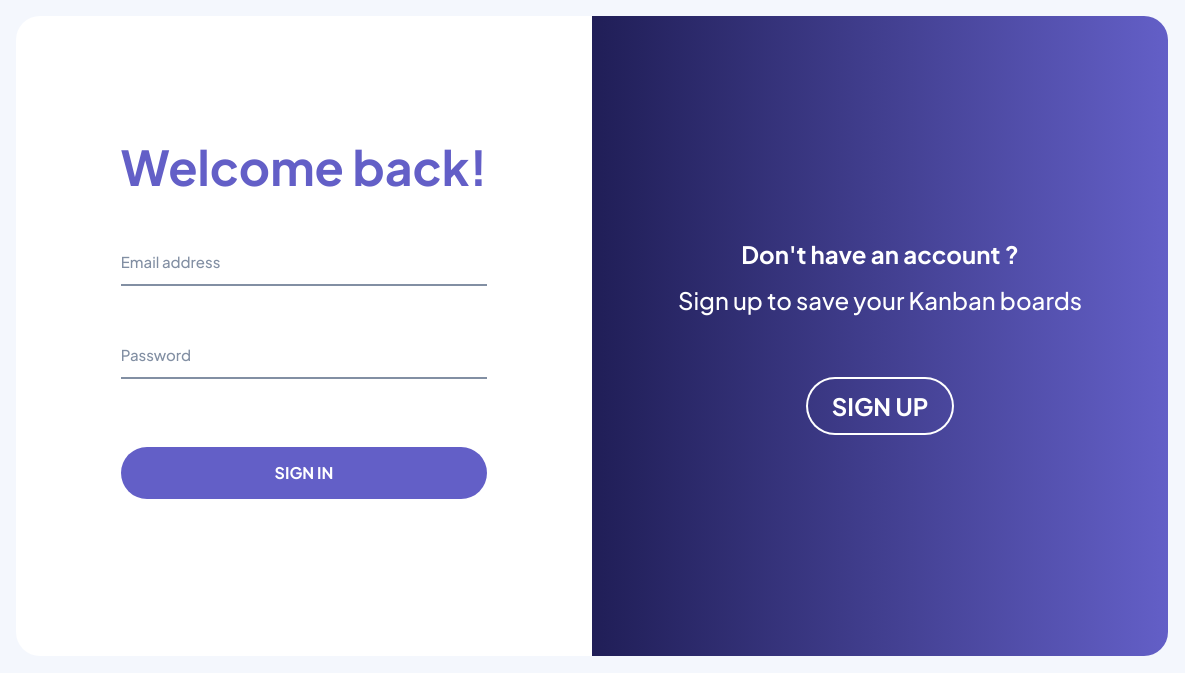
Test: Auth Page › loads the authentication page correctly
This screenshot has width=1185, height=673.
Expected: the field with id "signin-email" is shown, [121, 245, 487, 286]
Expected: the password field with id "signin-password" is shown, [121, 338, 487, 379]
// click the sign up button to switch the form
Click the button with id "signup-overlay-btn" at (881, 406), box [808, 379, 953, 433]
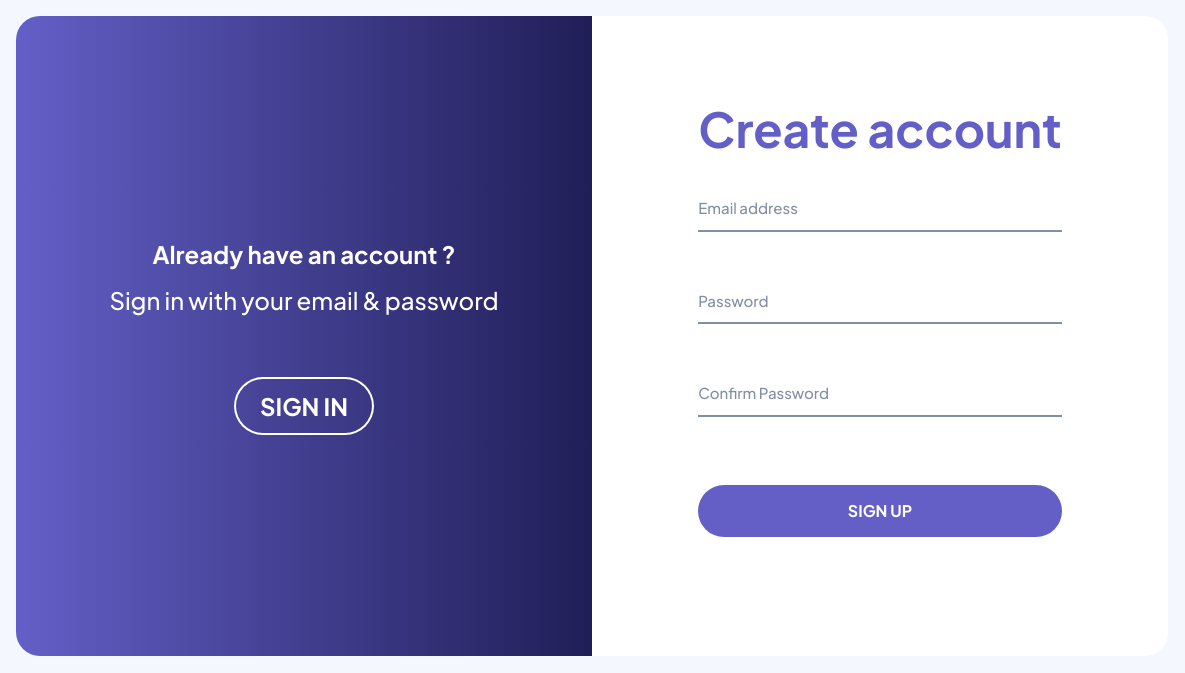
Expected: the field with id "signup-email" is shown, [698, 191, 1062, 232]
Expected: the password field with id "signup-password" is shown, [698, 284, 1062, 325]
Expected: the button "Sign Up" is shown, [698, 485, 1062, 537]
// click the sign in button to switch the form back to sign in
Click the button with id "signin-overlay-btn" at (304, 406), box [236, 379, 372, 433]
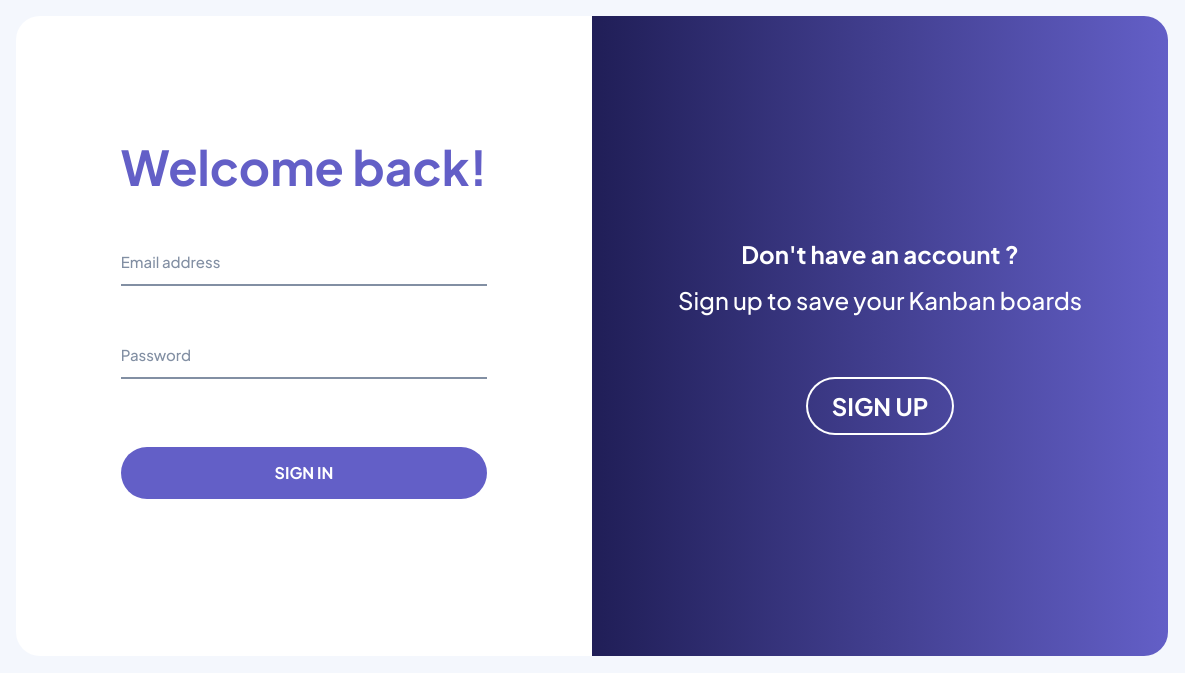
Expected: the field with id "signin-email" is shown, [121, 245, 487, 286]
Expected: the password field with id "signin-password" is shown, [121, 338, 487, 379]
Expected: the button "Sign In" is shown, [121, 447, 487, 499]
